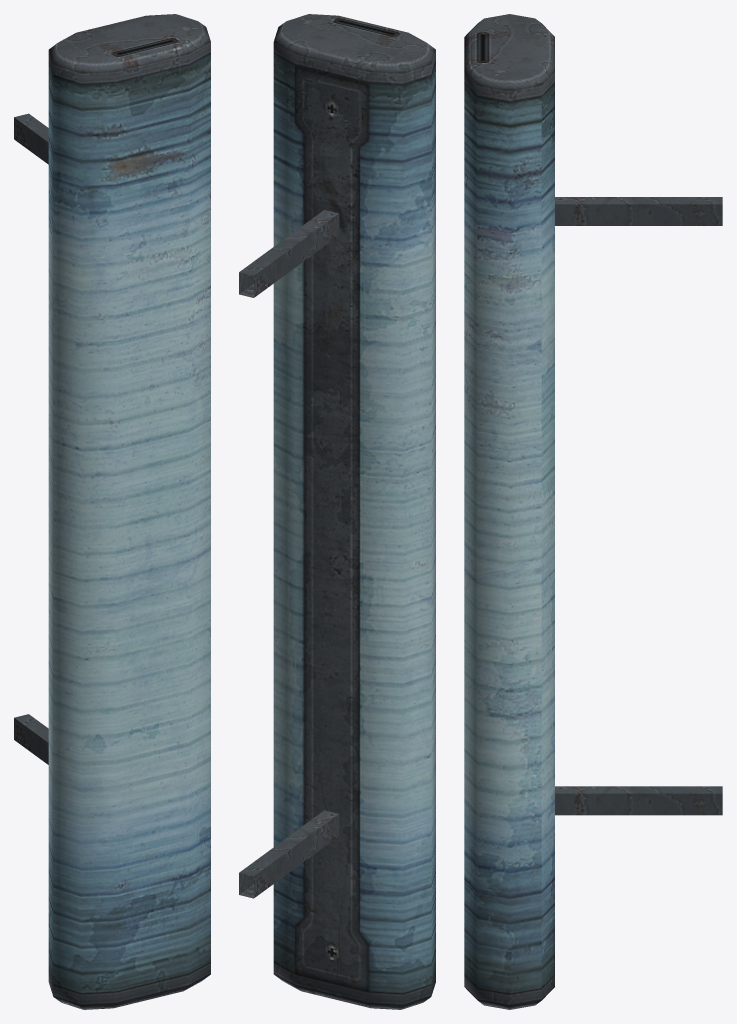
The model's file is Light1_3.fbx.
3 views of the same model, side by side, from view 1: azimuth 30°, elevation 25°; view 2: azimuth 150°, elevation 25°; view 3: azimuth 270°, elevation 25° (orthographic).
Parts seen in each view (by area): view 1: polySurface21; view 2: polySurface21; view 3: polySurface21.
Part boxes in pixels (left/top/right/bottom): polySurface21: left=14, top=14, right=210, bottom=1009; polySurface21: left=239, top=14, right=435, bottom=1009; polySurface21: left=464, top=14, right=722, bottom=1009.
Bounding box in the file's own units: 0.1712 × 1.01 × 0.2548.
1 material, 1 textured.
